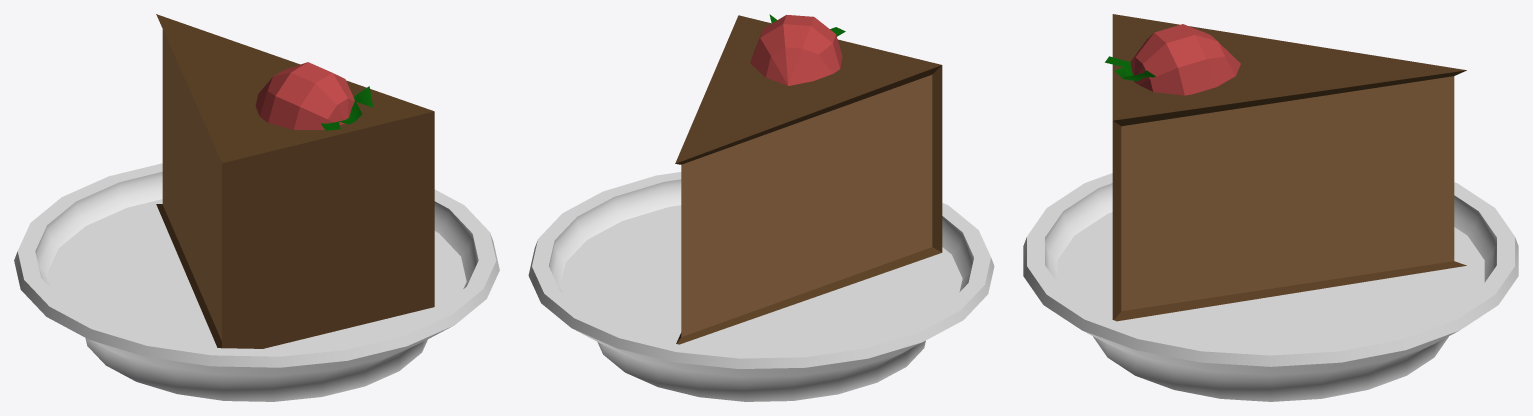
Rendered from cake.fbx.
3 renders of one model, left to right at view 1: azimuth 30°, elevation 25°; view 2: azimuth 150°, elevation 25°; view 3: azimuth 270°, elevation 25°, orthographic. The views are drawn at different scales.
Parts seen in each view (by area): view 1: pCube1, pCylinder1, pSphere1, pCube2; view 2: pCube1, pCylinder1, pSphere1; view 3: pCube1, pCylinder1, pSphere1, pCube2.
Part boxes in pixels (<box>): pCube1: <box>156,14,434,348</box>; pCylinder1: <box>14,163,499,401</box>; pSphere1: <box>255,62,354,129</box>; pCube2: <box>321,86,373,130</box>; pCube1: <box>675,15,942,344</box>; pCylinder1: <box>528,172,994,401</box>; pSphere1: <box>750,14,842,85</box>; pCube1: <box>1112,14,1466,321</box>; pCylinder1: <box>1023,173,1518,401</box>; pSphere1: <box>1130,24,1240,95</box>; pCube2: <box>1105,56,1155,82</box>.
Bounding box in the file's own units: 2.94 × 1.94 × 2.91.
